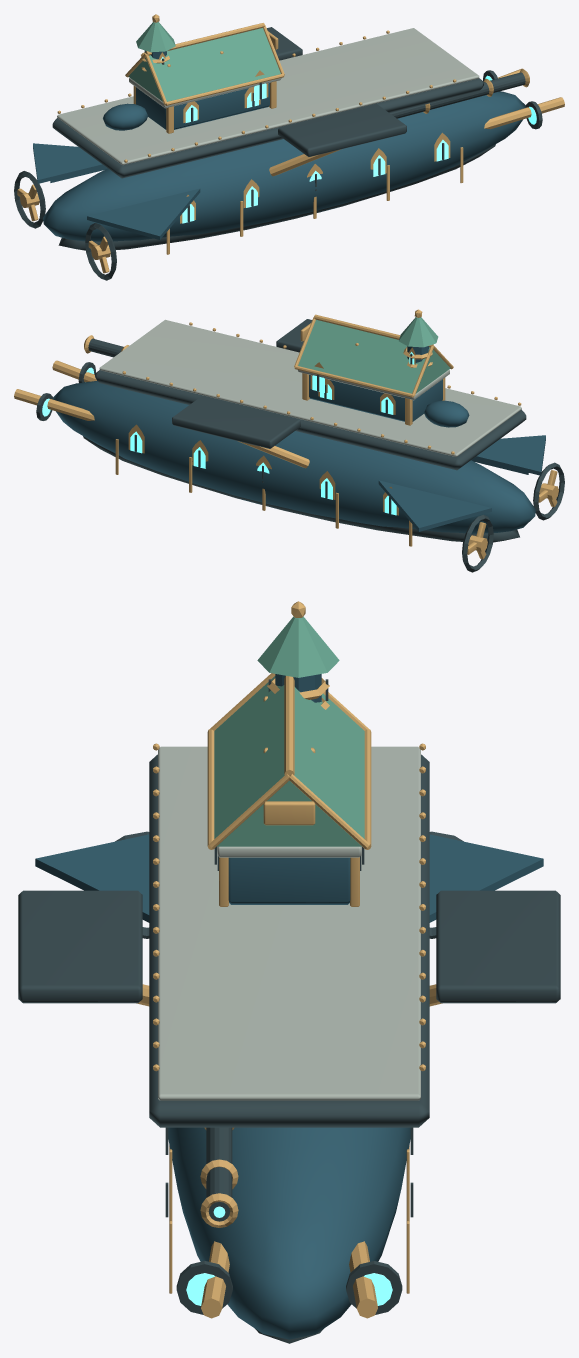
File: wraith.glb
3 renders of one model, top to bottom at view 1: azimuth 30°, elevation 25°; view 2: azimuth 150°, elevation 25°; view 3: azimuth 270°, elevation 25°, orthographic. The views are drawn at different scales.
Visible parts, largest first — view 1: wraith / Paint | Prussian night enamel, wraith / Paint | armored limestone, wraith / Hull | charcoal iron, wraith / Copper | steep verdigris roof, wraith / Fittings | worn maritime brass, wraith / Lamp | charged glacial blue, Runtime rotor 01 | wraith, Runtime rotor 02 | wraith; view 2: wraith / Paint | Prussian night enamel, wraith / Paint | armored limestone, wraith / Hull | charcoal iron, wraith / Copper | steep verdigris roof, wraith / Fittings | worn maritime brass, wraith / Lamp | charged glacial blue, Runtime rotor 01 | wraith, Runtime rotor 02 | wraith; view 3: wraith / Paint | armored limestone, wraith / Paint | Prussian night enamel, wraith / Hull | charcoal iron, wraith / Copper | steep verdigris roof, wraith / Fittings | worn maritime brass, wraith / Lamp | charged glacial blue.
Part boxes in pixels (<box>): wraith / Paint | Prussian night enamel: <box>33,50,525,241</box>; wraith / Paint | armored limestone: <box>57,28,479,165</box>; wraith / Hull | charcoal iron: <box>14,27,542,280</box>; wraith / Copper | steep verdigris roof: <box>128,22,280,101</box>; wraith / Fittings | worn maritime brass: <box>57,14,564,254</box>; wraith / Lamp | charged glacial blue: <box>160,56,536,223</box>; Runtime rotor 01 | wraith: <box>88,236,110,273</box>; Runtime rotor 02 | wraith: <box>17,184,39,221</box>; wraith / Paint | Prussian night enamel: <box>53,346,545,533</box>; wraith / Paint | armored limestone: <box>99,319,521,456</box>; wraith / Hull | charcoal iron: <box>36,319,564,572</box>; wraith / Copper | steep verdigris roof: <box>298,317,450,393</box>; wraith / Fittings | worn maritime brass: <box>14,309,521,546</box>; wraith / Lamp | charged glacial blue: <box>42,352,414,515</box>; Runtime rotor 01 | wraith: <box>538,470,558,506</box>; Runtime rotor 02 | wraith: <box>467,522,487,559</box>; wraith / Paint | armored limestone: <box>158,746,420,1100</box>; wraith / Paint | Prussian night enamel: <box>35,674,543,1339</box>; wraith / Hull | charcoal iron: <box>18,679,560,1343</box>; wraith / Copper | steep verdigris roof: <box>214,616,364,846</box>; wraith / Fittings | worn maritime brass: <box>136,601,442,1318</box>; wraith / Lamp | charged glacial blue: <box>186,1206,392,1305</box>.
Bounding box in the file's own units: 10.22 × 4.44 × 4.8.
